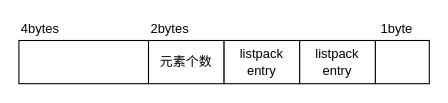
The diagram is 448 pixels wide and 103 high, and some of its shapes have lost their labels. The centre of each missing label's shape, as x and y in pixels:
listpack总大小: (x=83, y=61)
LP_EOF 255: (x=401, y=61)
